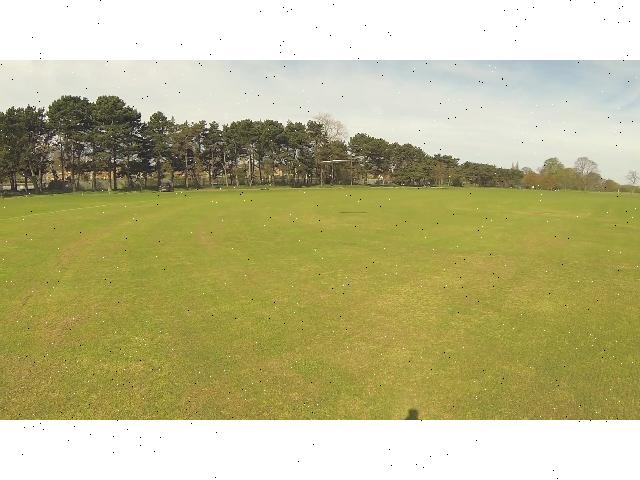Anti-Drone: (318, 152, 362, 170)
